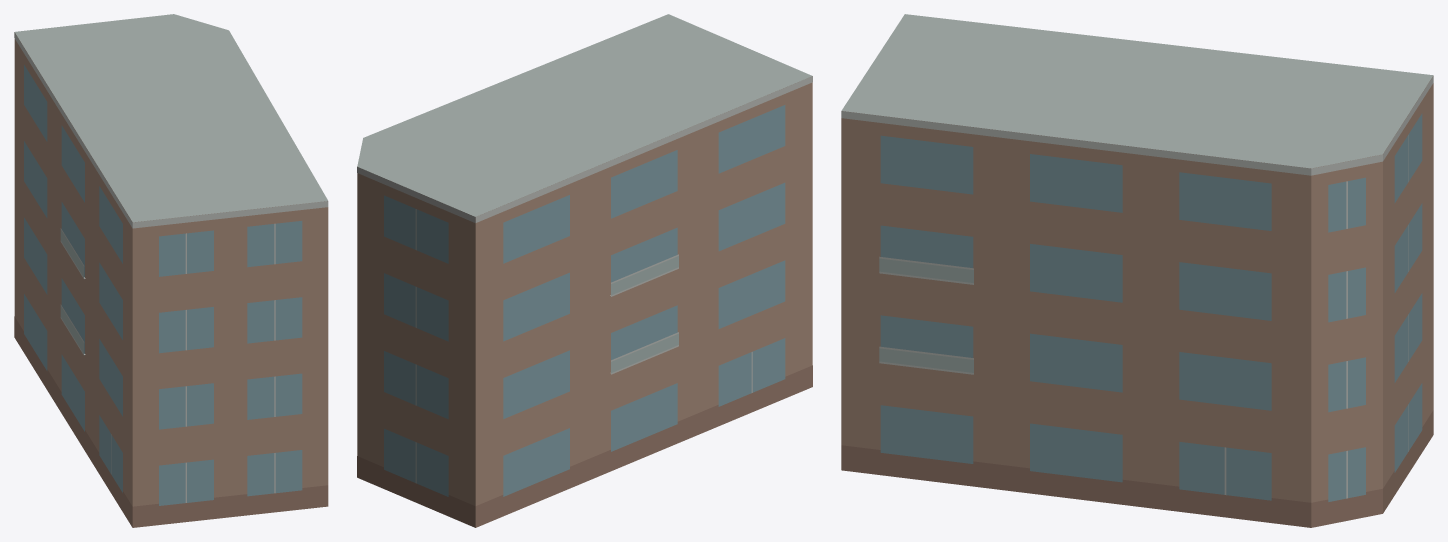
The model's file is survey-upis-32994287.glb.
The picture shows the model from 3 angles, left to right: view 1: azimuth 30°, elevation 25°; view 2: azimuth 150°, elevation 25°; view 3: azimuth 270°, elevation 25°; orthographic projection. The views are drawn at different scales.
Parts seen in each view (by area): view 1: survey-upis-32994287.tmp; view 2: survey-upis-32994287.tmp; view 3: survey-upis-32994287.tmp.
Boxes of the visible parts, x1=… form: survey-upis-32994287.tmp: x1=14, y1=14, x2=328, y2=527; survey-upis-32994287.tmp: x1=357, y1=14, x2=812, y2=527; survey-upis-32994287.tmp: x1=841, y1=14, x2=1433, y2=527.
Bounding box in the file's own units: 11.16 × 12.1 × 18.08.
